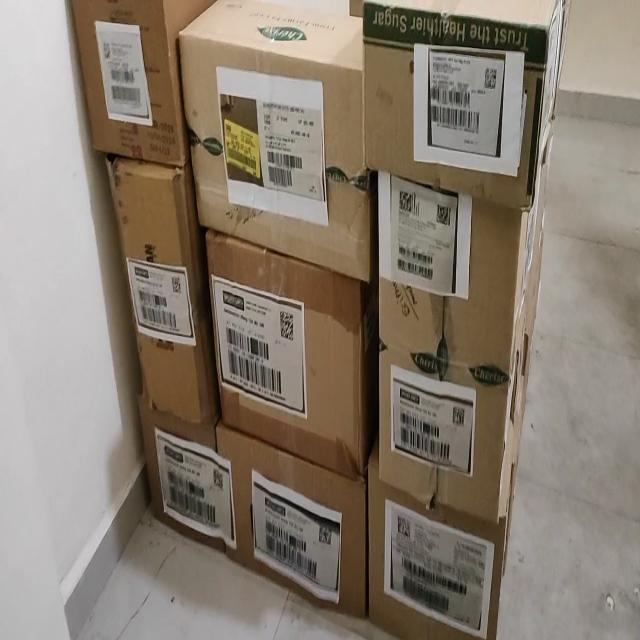BoxFace: (375, 132, 524, 522), (178, 0, 372, 280), (204, 228, 374, 478), (361, 0, 550, 206), (214, 420, 371, 626), (104, 154, 217, 426), (367, 458, 518, 638), (68, 0, 182, 167), (135, 388, 237, 550)
